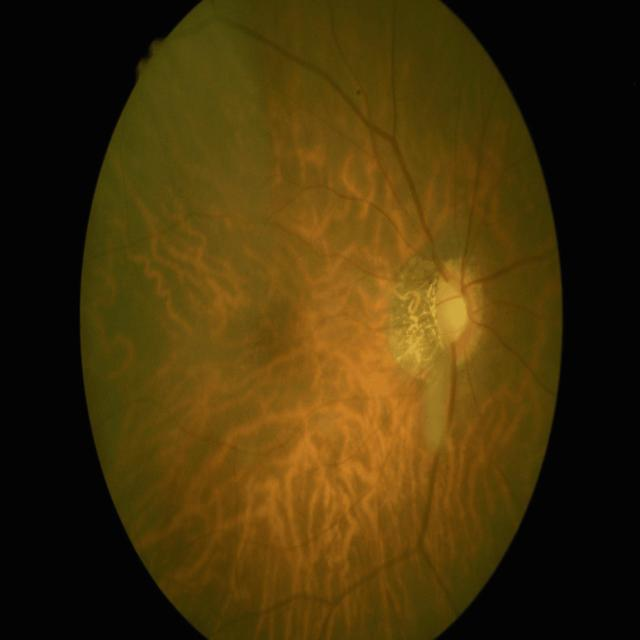cup: (438, 279, 468, 347)
disk: (431, 260, 482, 366)
